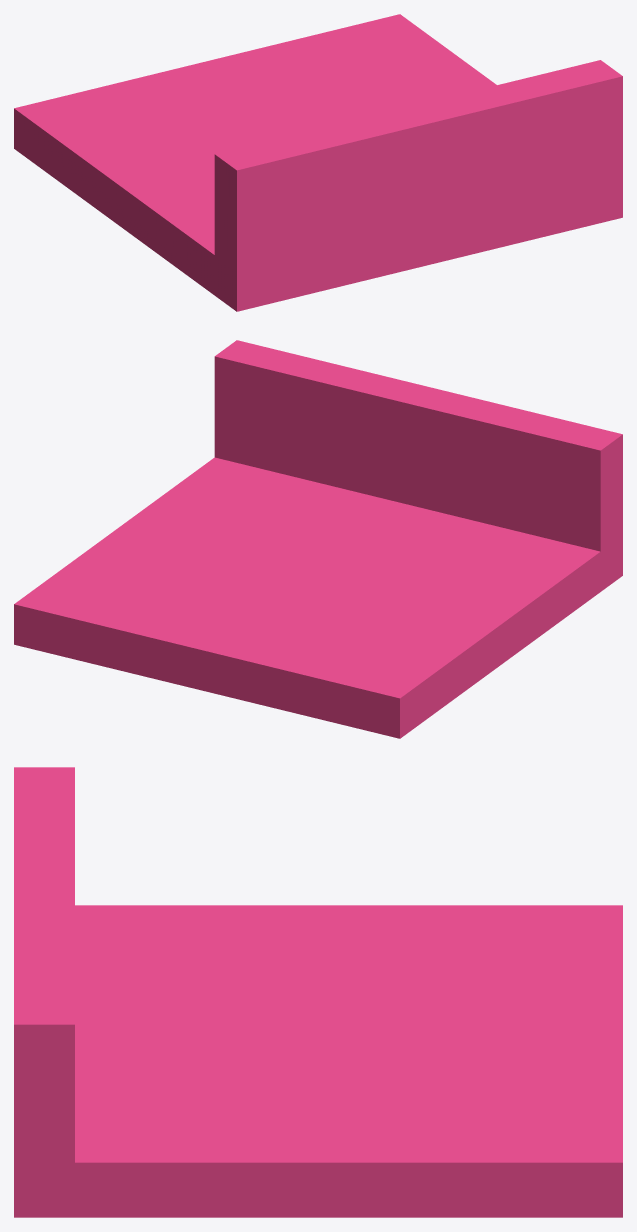
File: PinkRoof_1Edge_Small.glb
3 views of the same model, one above another, from view 1: azimuth 30°, elevation 25°; view 2: azimuth 150°, elevation 25°; view 3: azimuth 270°, elevation 25° (orthographic). The views are drawn at different scales.
Visible parts, largest first — view 1: roof_flat_1Edges_small_pink; view 2: roof_flat_1Edges_small_pink; view 3: roof_flat_1Edges_small_pink.
Part boxes in pixels (box(x1,y1,x2,y2)): roof_flat_1Edges_small_pink: box(14, 14, 622, 311); roof_flat_1Edges_small_pink: box(14, 340, 622, 738); roof_flat_1Edges_small_pink: box(14, 767, 622, 1217).
Size of what is drawn, in the model's own units: 2 by 0.7 by 2.
1 material, 1 textured.
